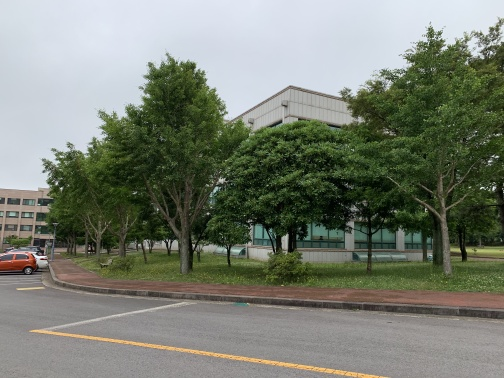Joint Experimental Labs: (2, 188, 61, 251)
Second Library: (213, 76, 448, 283), (252, 209, 443, 273), (227, 88, 388, 140)
